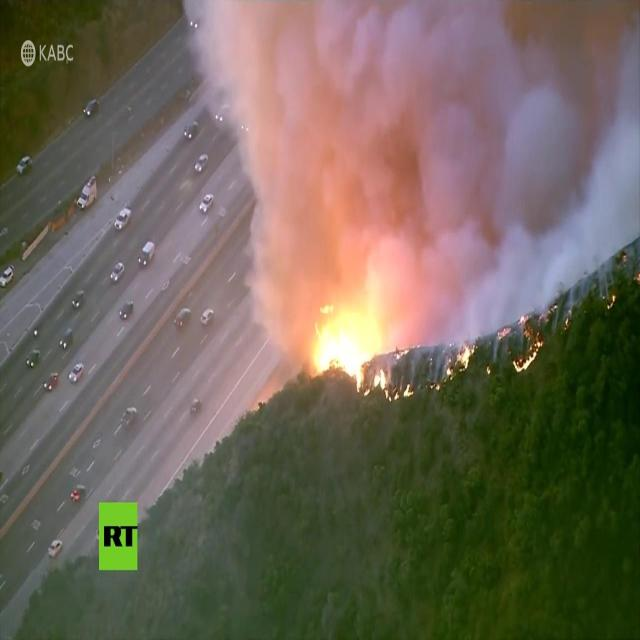Fire: (318, 303, 364, 392), (510, 349, 539, 374), (371, 369, 392, 398), (457, 342, 471, 371), (393, 383, 413, 398)
